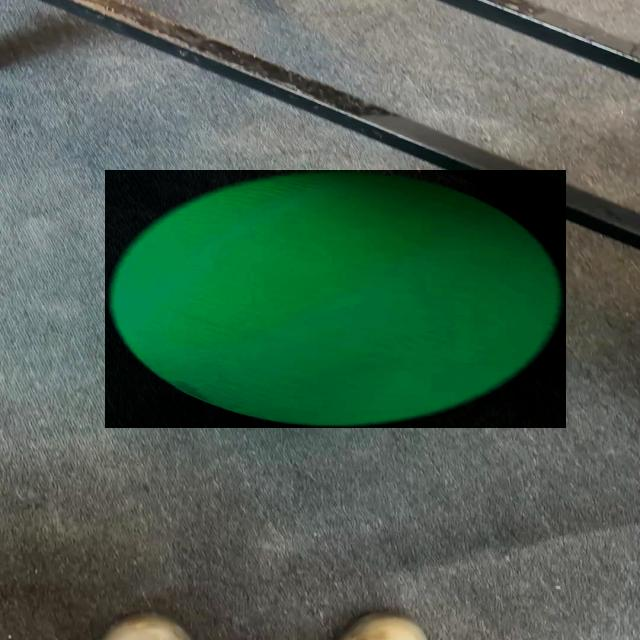Algae: (105, 170, 566, 428)
